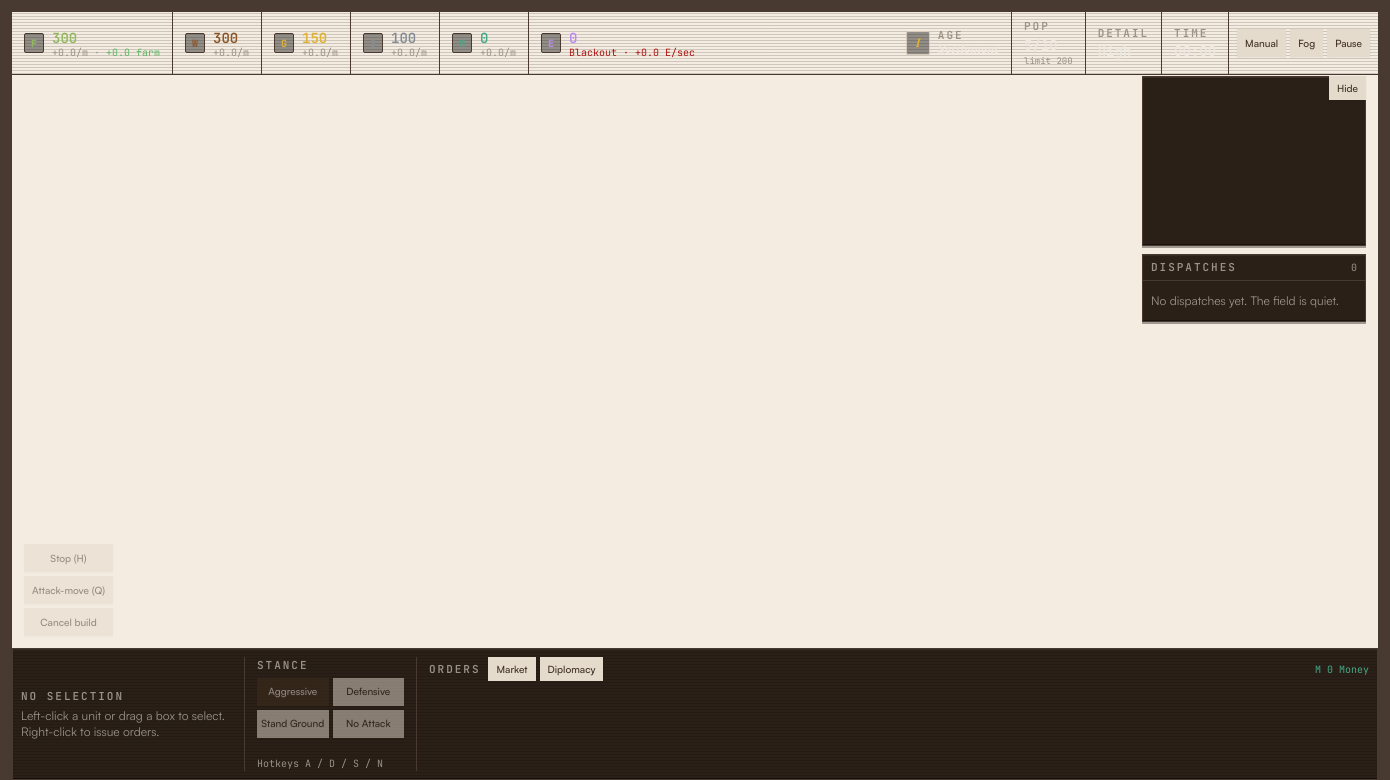
Test: energy grid cover: inspection panel power state › reports an unpowered energy-consuming building with a clear status
Press the mouse on the drawing named "Battlefield view" at point(695, 396), box [12,12,1378,779]
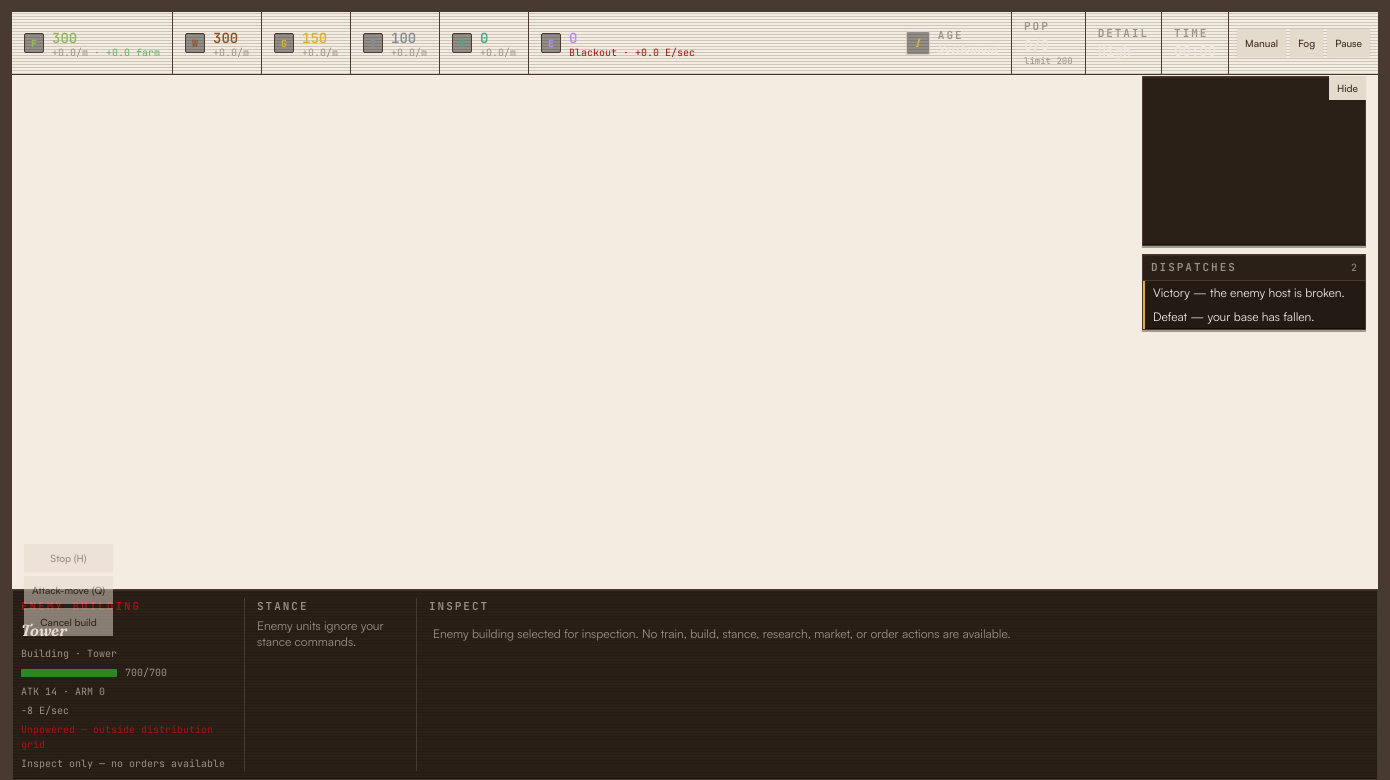
Expected: the text "Unpowered — outside distribution grid" is shown, [21,722,232,752]
